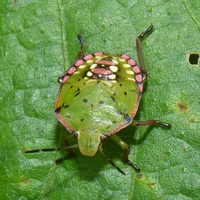insect: (23, 25, 170, 173)
